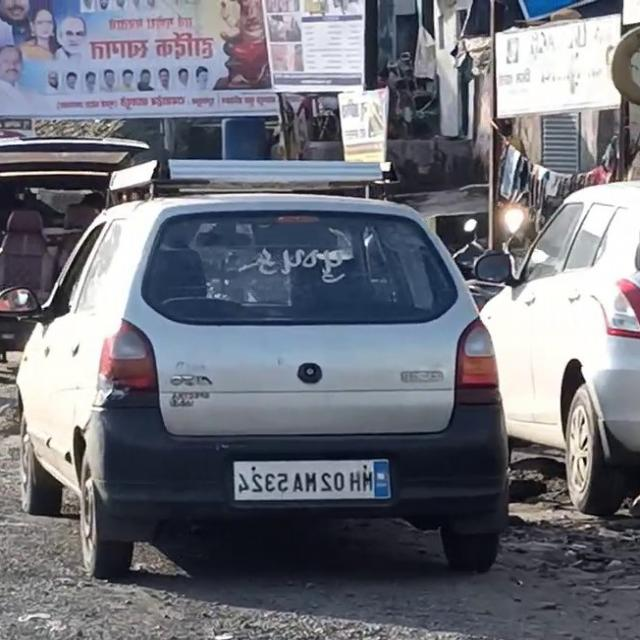license_plate: (228, 452, 394, 507)
